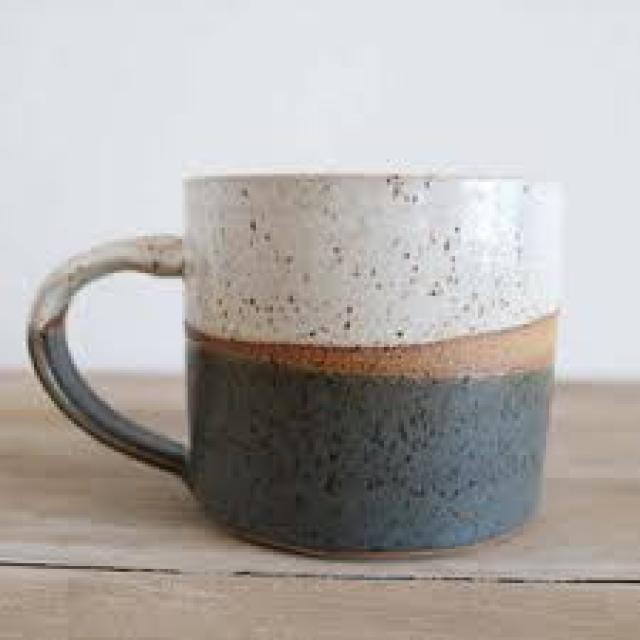taza: (25, 172, 563, 566)
